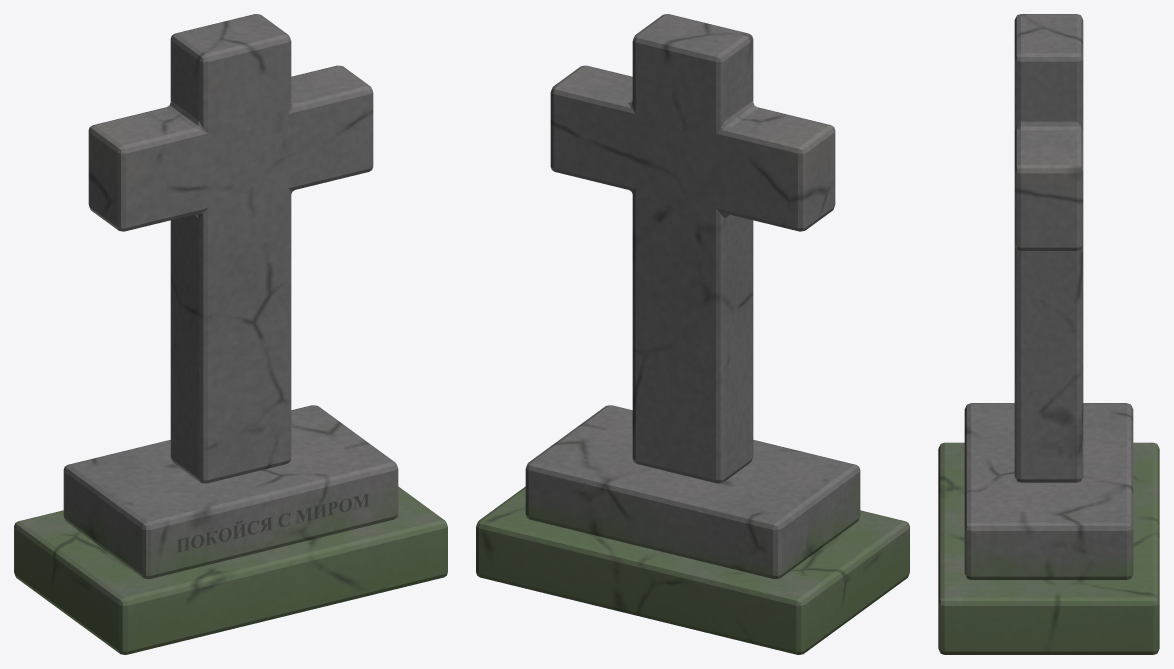
Rendered from gravestone_cross_a.glb.
3 renders of one model, left to right at view 1: azimuth 30°, elevation 25°; view 2: azimuth 150°, elevation 25°; view 3: azimuth 270°, elevation 25°, orthographic.
Parts seen in each view (by area): view 1: gravestone_cross_a; view 2: gravestone_cross_a; view 3: gravestone_cross_a.
Part boxes in pixels (left/top/right/bottom): gravestone_cross_a: left=14, top=14, right=447, bottom=654; gravestone_cross_a: left=476, top=14, right=909, bottom=654; gravestone_cross_a: left=938, top=14, right=1159, bottom=654.
Bounding box in the file's own units: 0.72 × 1.14 × 0.42.
Materials: 1 (1 with a texture image).
